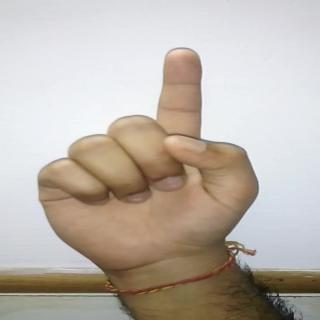I: (36, 44, 297, 269)
